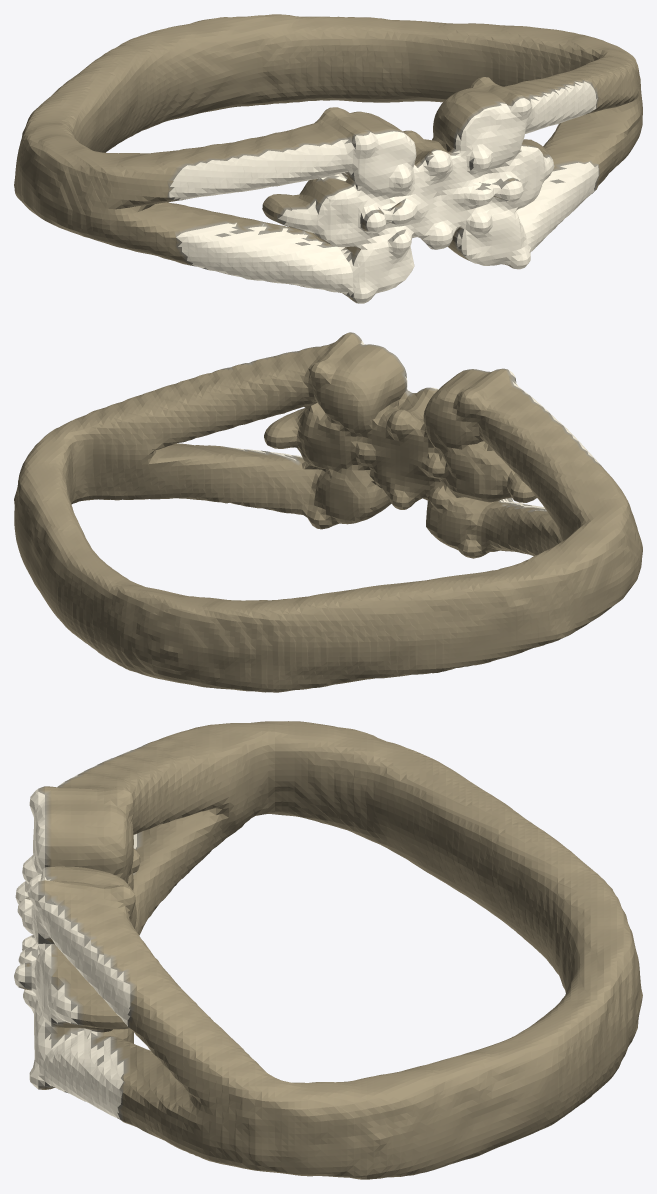
The picture shows the model from 3 angles, top to bottom: view 1: azimuth 30°, elevation 25°; view 2: azimuth 150°, elevation 25°; view 3: azimuth 270°, elevation 25°; orthographic projection. The views are drawn at different scales.
Parts seen in each view (by area): view 1: metal, stone; view 2: metal, stone; view 3: metal, stone.
Boxes of the visible parts, x1,y1,x2,y2 form: metal: (14,14,642,303); stone: (169,81,598,303); metal: (14,332,642,692); stone: (229,338,599,510); metal: (18,721,642,1179); stone: (14,745,143,1118).
Bounding box in the file's own units: 1.96 × 0.5524 × 1.5.
